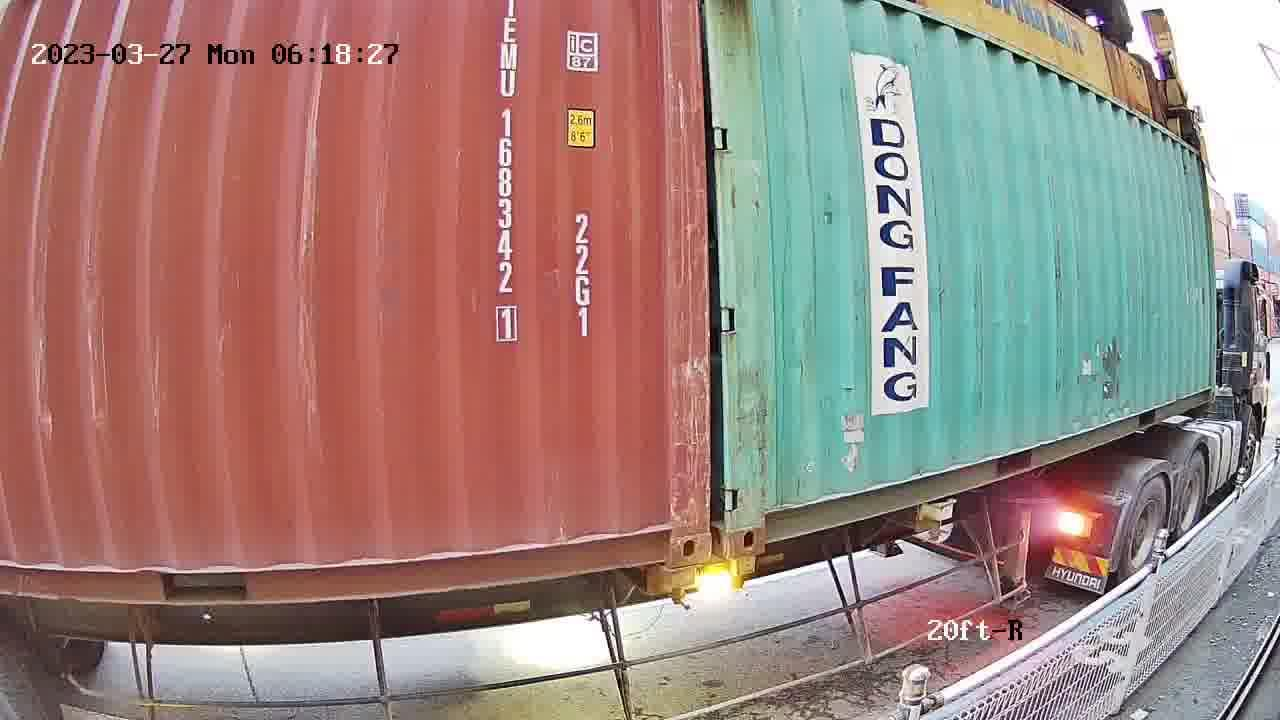Cone: (645, 565, 701, 610), (726, 553, 762, 593)
Hole_L: (727, 482, 799, 558)
Hole_R: (623, 492, 711, 568)
Tire: (1123, 478, 1166, 584), (1175, 454, 1207, 539)
